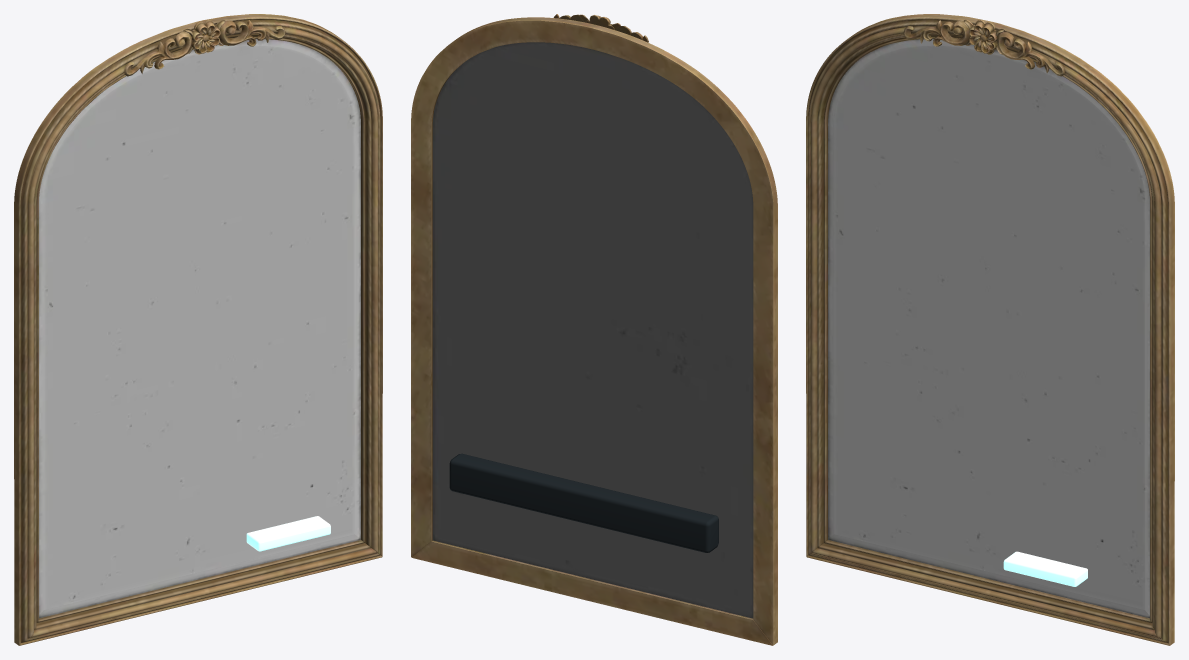
File: hp_l2_cc0_wall_mirror_polyhaven_v1.glb
The picture shows the model from 3 angles, left to right: view 1: azimuth 30°, elevation 25°; view 2: azimuth 150°, elevation 25°; view 3: azimuth 330°, elevation 25°; orthographic projection.
Visible parts, largest first — view 1: cc0_source_ornate_mirror_01, hp_wall_mirror_lower_cyan_index; view 2: cc0_source_ornate_mirror_01, hp_wall_mirror_back_mount; view 3: cc0_source_ornate_mirror_01, hp_wall_mirror_lower_cyan_index.
Part boxes in pixels (x1,y1,x2,y2): cc0_source_ornate_mirror_01: (14, 14, 382, 645); hp_wall_mirror_lower_cyan_index: (246, 516, 330, 551); cc0_source_ornate_mirror_01: (411, 14, 777, 645); hp_wall_mirror_back_mount: (449, 453, 718, 552); cc0_source_ornate_mirror_01: (806, 14, 1174, 645); hp_wall_mirror_lower_cyan_index: (1003, 551, 1087, 586).
Size of the model in its own units: 0.7976 by 1.22 by 0.1525.
Materials: 3 (1 with a texture image).
